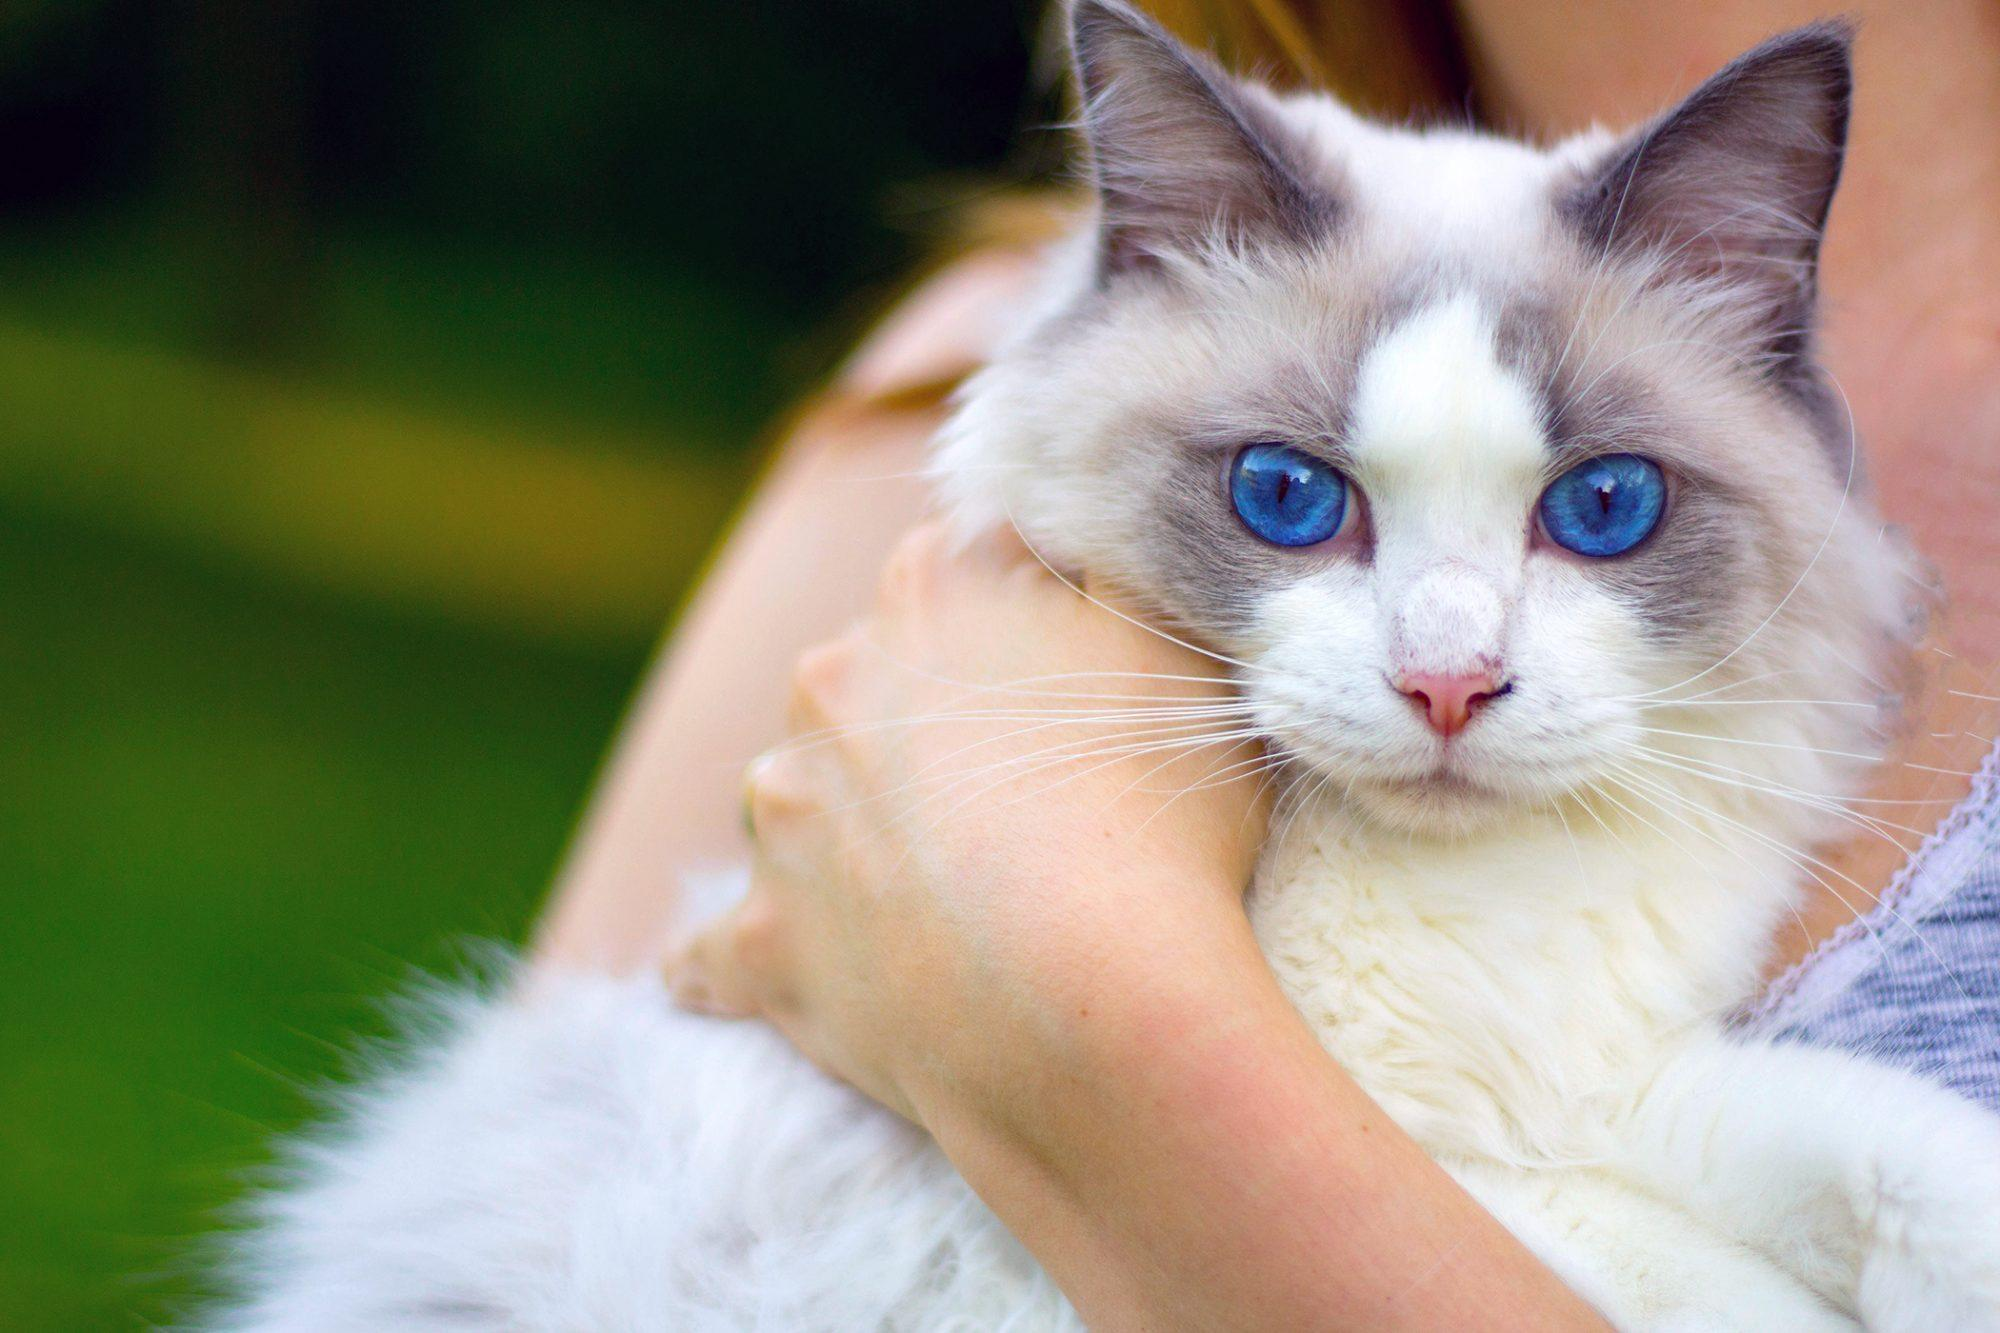ragdoll: (1033, 1, 1880, 827)
